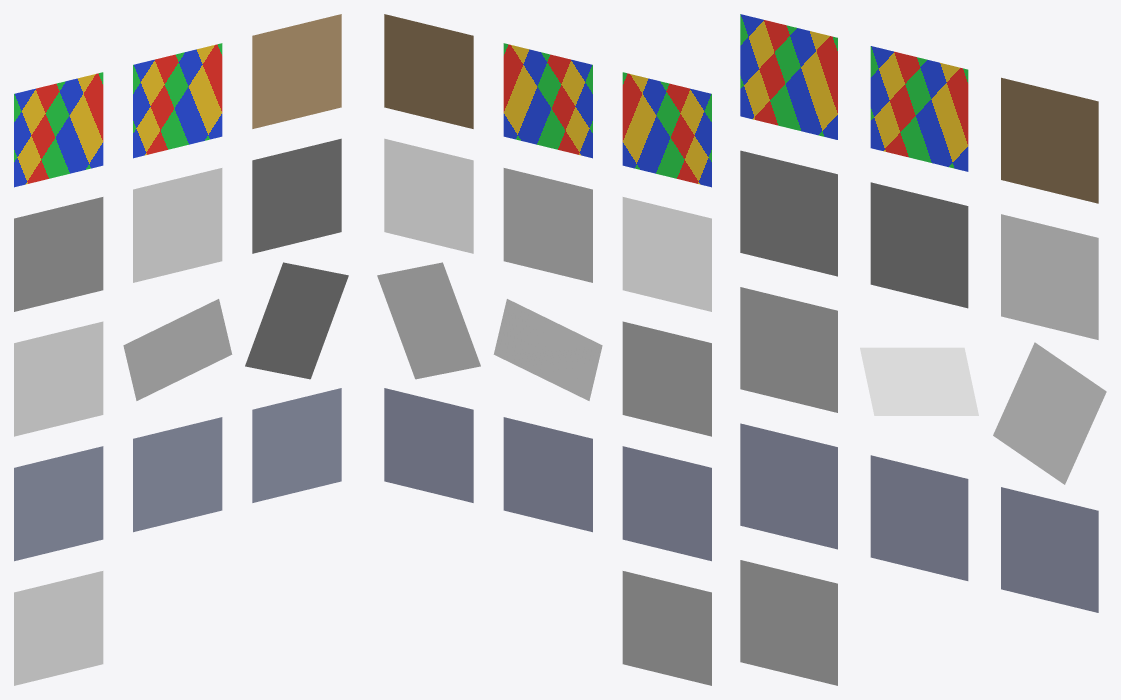
File: reference.gltf
3 views of the same model, side by side, from view 1: azimuth 30°, elevation 25°; view 2: azimuth 150°, elevation 25°; view 3: azimuth 330°, elevation 25° (orthographic). The views are drawn at different scales.
Visible parts, largest first — view 1: case-0, case-10, case-1, case-2, case-4, case-6, case-9, case-11, case-3, case-5, case-12, case-8 (+1 smaller); view 2: case-0, case-10, case-1, case-2, case-4, case-6, case-9, case-11, case-3, case-5, case-12, case-8 (+1 smaller); view 3: case-10, case-1, case-4, case-12, case-0, case-2, case-3, case-6, case-9, case-11, case-5, case-8 (+1 smaller).
Part boxes in pixels (<box>): case-0: <box>14,72,103,187</box>; case-10: <box>133,417,222,532</box>; case-1: <box>133,43,222,158</box>; case-2: <box>252,14,341,128</box>; case-4: <box>133,168,222,282</box>; case-6: <box>14,321,103,436</box>; case-9: <box>14,446,103,561</box>; case-11: <box>252,388,341,502</box>; case-3: <box>14,197,103,311</box>; case-5: <box>252,138,341,253</box>; case-12: <box>14,571,103,685</box>; case-8: <box>245,262,348,379</box>; case-0: <box>622,72,711,187</box>; case-10: <box>503,417,592,532</box>; case-1: <box>503,43,592,158</box>; case-2: <box>384,14,473,128</box>; case-4: <box>503,168,592,282</box>; case-6: <box>622,321,711,436</box>; case-9: <box>622,446,711,561</box>; case-11: <box>384,388,473,502</box>; case-3: <box>622,197,711,311</box>; case-5: <box>384,138,473,253</box>; case-12: <box>622,571,711,685</box>; case-8: <box>377,262,480,379</box>; case-10: <box>870,455,968,580</box>; case-1: <box>870,46,968,171</box>; case-4: <box>870,182,968,308</box>; case-12: <box>740,560,837,685</box>; case-0: <box>740,14,837,139</box>; case-2: <box>1001,77,1098,203</box>; case-3: <box>740,150,837,276</box>; case-6: <box>740,287,837,412</box>; case-9: <box>740,423,837,549</box>; case-11: <box>1001,487,1098,612</box>; case-5: <box>1001,214,1098,339</box>; case-8: <box>993,342,1106,484</box>.
Bounding box in the file's own units: 5.62 × 9.5 × 0.
13 materials, 5 textured.
